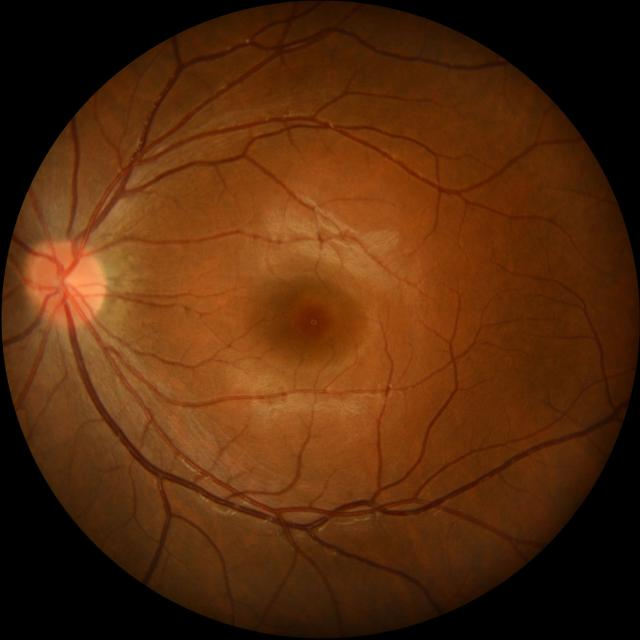OC: (56, 271, 82, 297)
OD: (26, 242, 104, 324)
